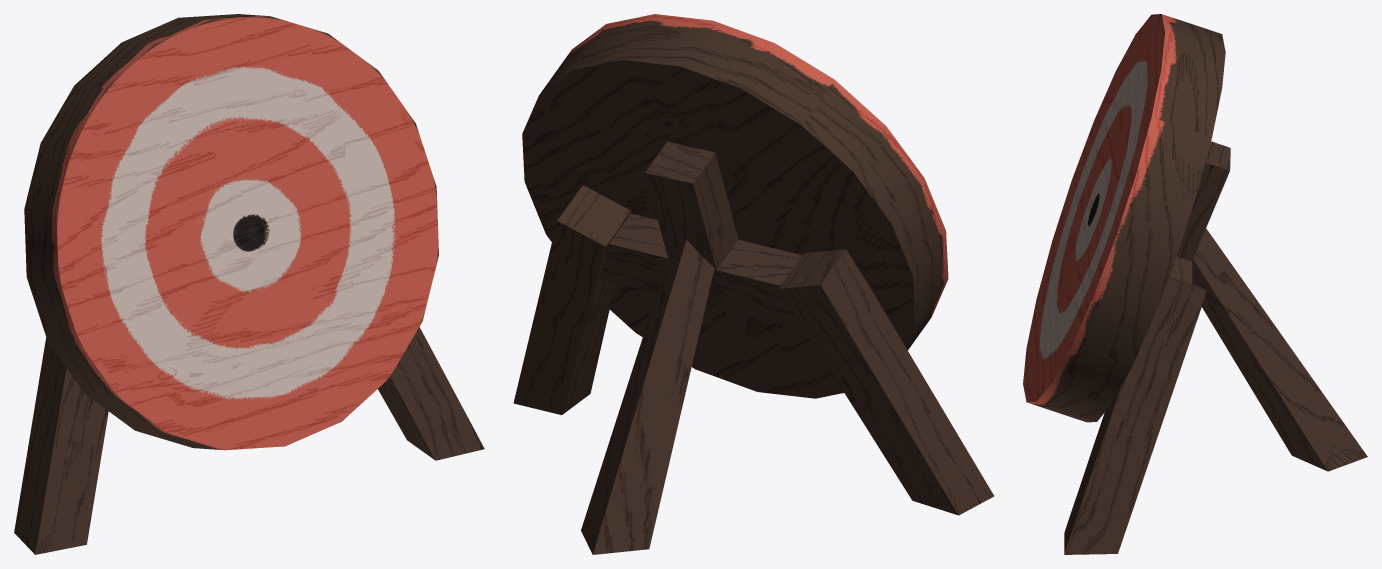
File: p_target.fbx
3 views of the same model, side by side, from view 1: azimuth 30°, elevation 25°; view 2: azimuth 150°, elevation 25°; view 3: azimuth 270°, elevation 25° (orthographic). The views are drawn at different scales.
Visible parts, largest first — view 1: Default_Cube7; view 2: Default_Cube7; view 3: Default_Cube7.
Boxes of the visible parts, x1,y1,x2,y2 form: Default_Cube7: (14,14,484,554); Default_Cube7: (513,14,994,554); Default_Cube7: (1023,14,1367,554).
Bounding box in the file's own units: 189 × 180 × 134.
